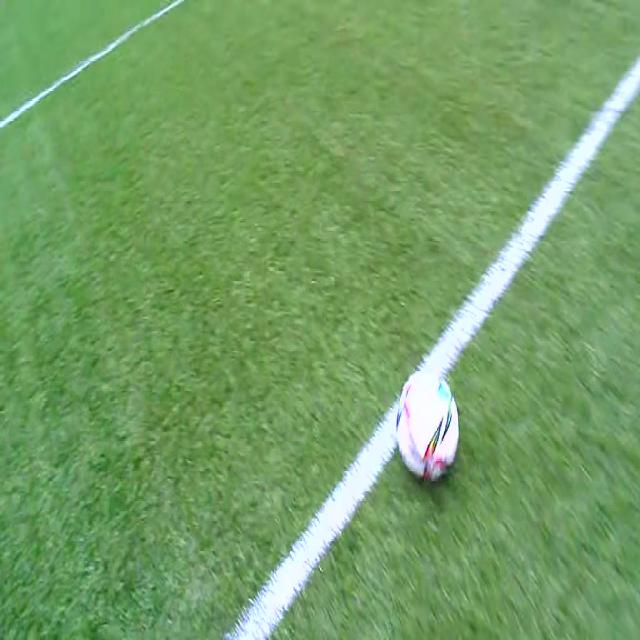ball: (397, 372, 460, 478)
